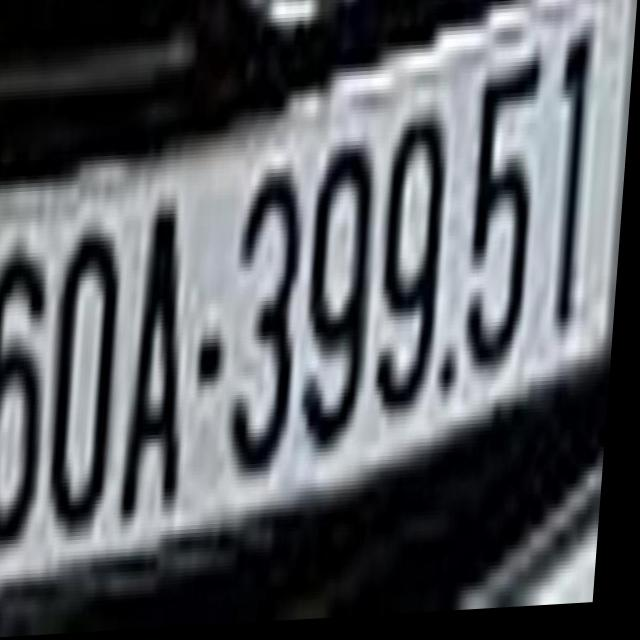0: (47, 198, 135, 543)
1: (546, 14, 601, 338)
3: (231, 140, 305, 481)
5: (465, 44, 547, 389)
6: (0, 225, 57, 562)
9: (303, 132, 389, 458), (379, 106, 456, 423)
A: (124, 199, 206, 524)
